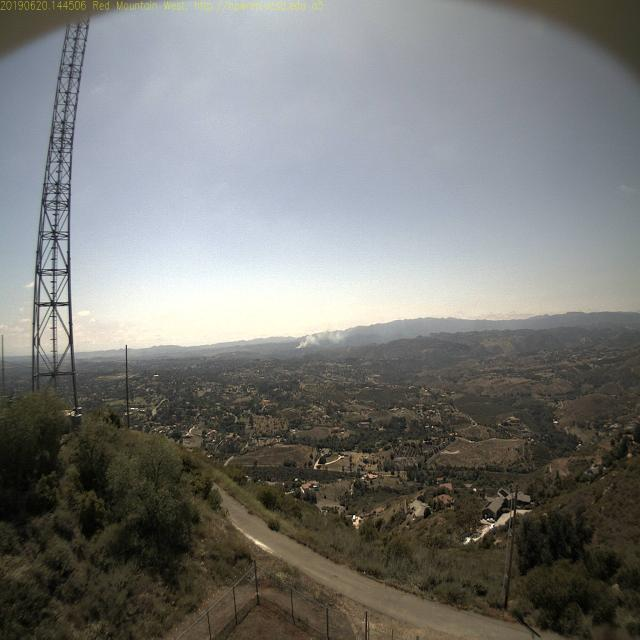smoke: (290, 330, 330, 355)
